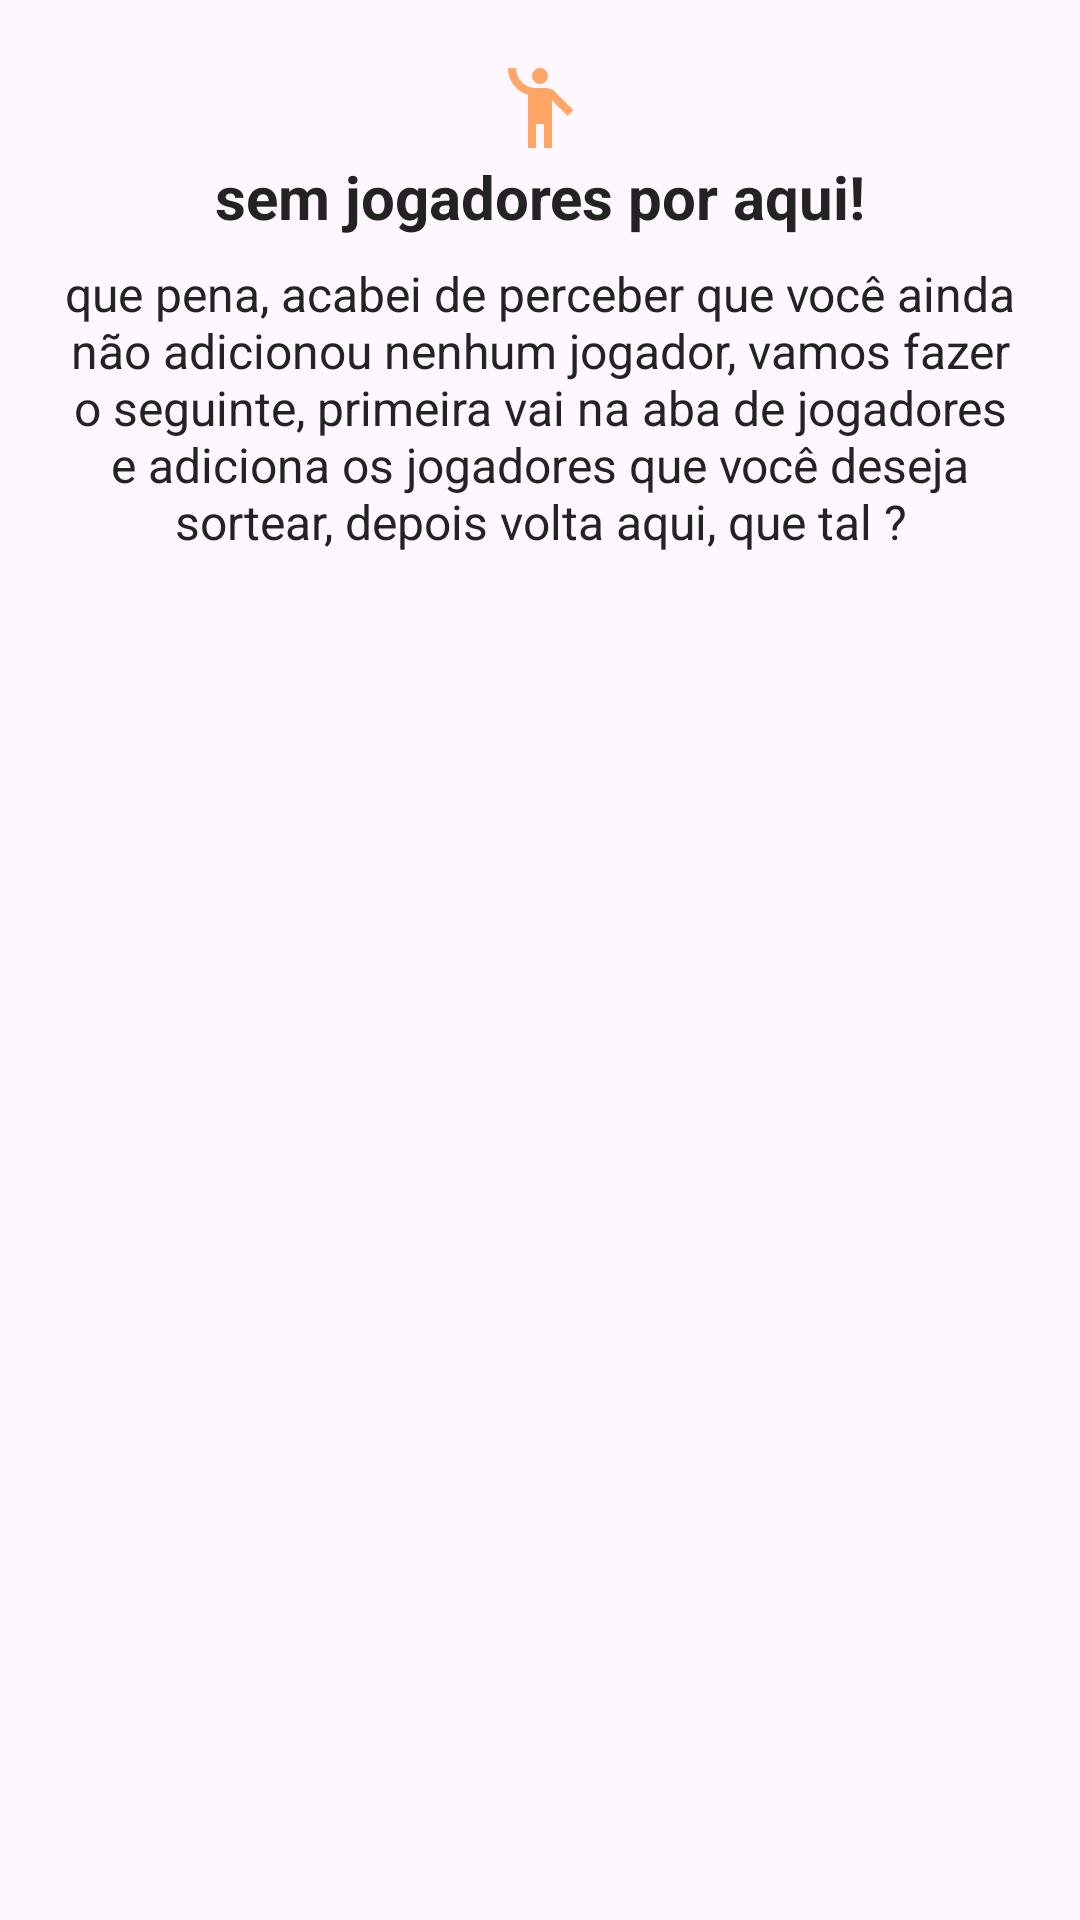

Named icons in this screenshot (1080*1920) and their centers, (x=x, y=y):
draw team emoji people: (x=541, y=108)
